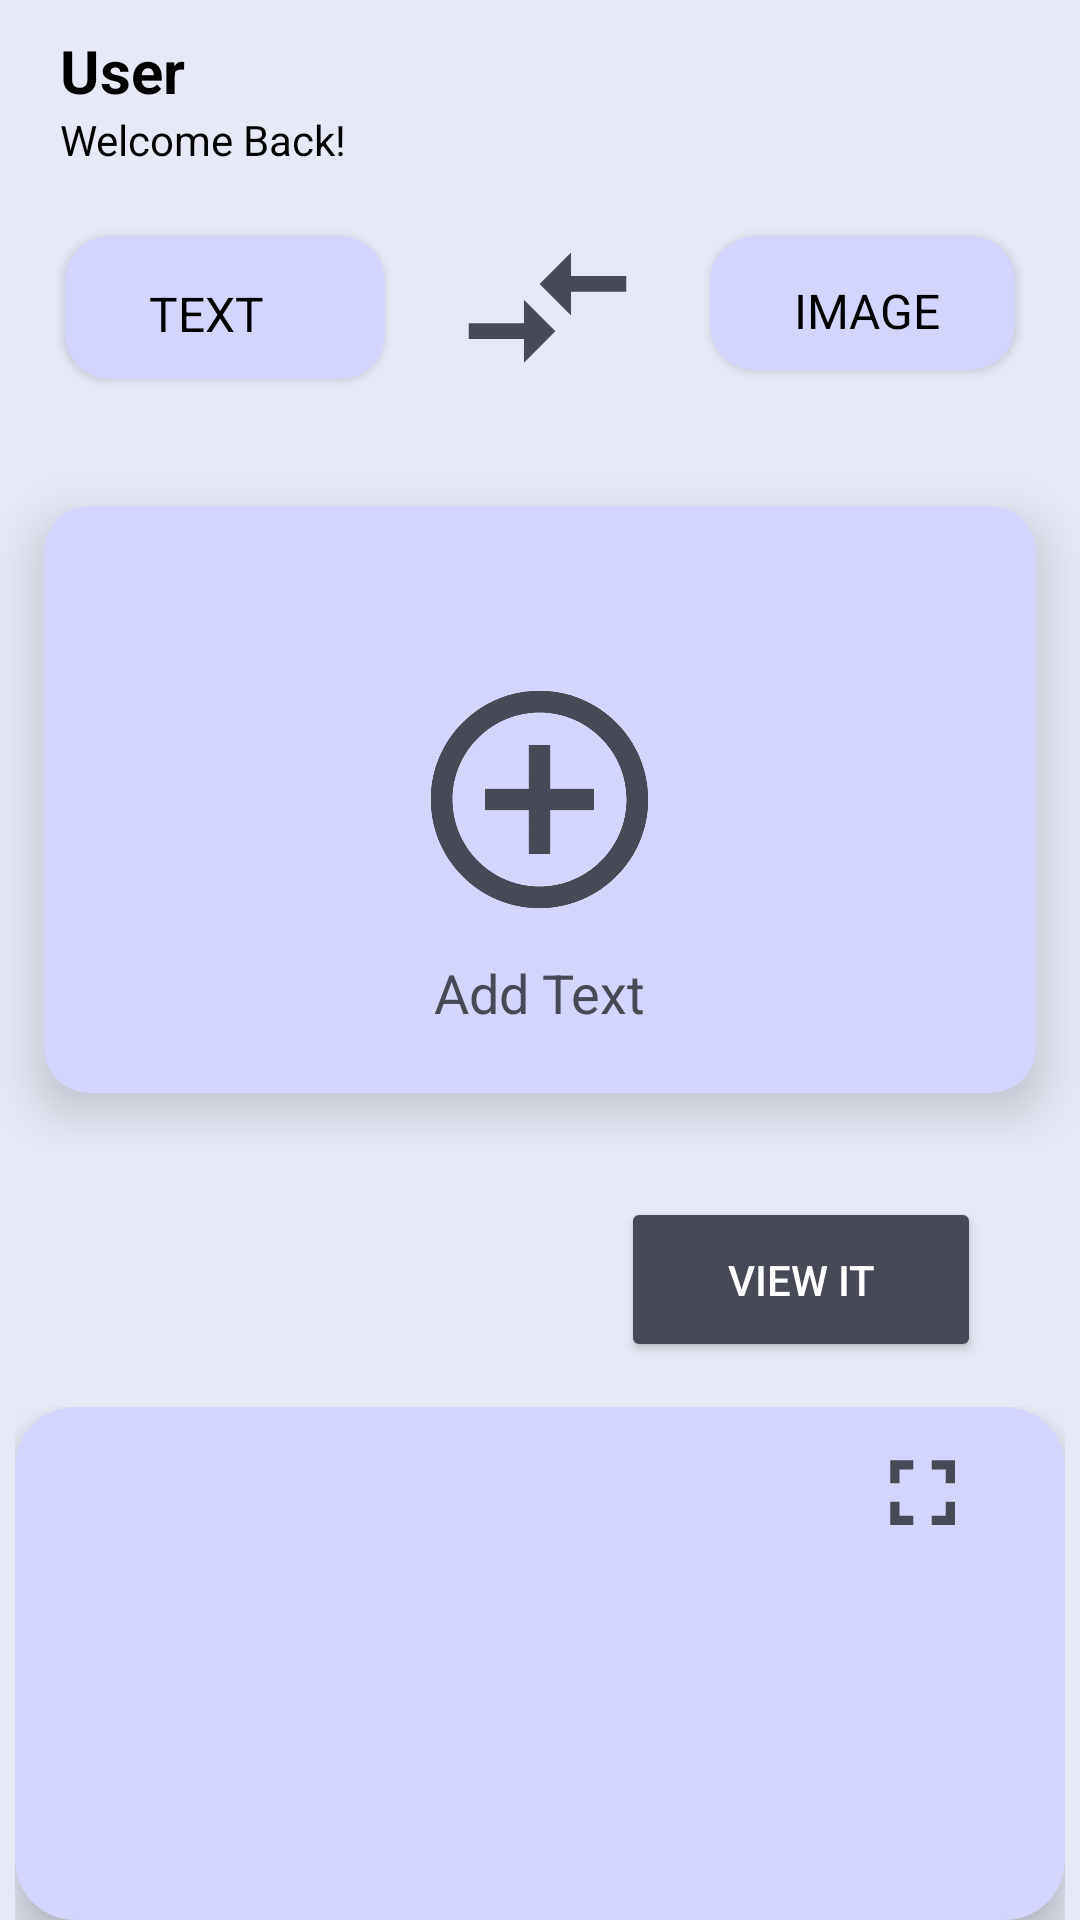

Icons on this 1080px x 1920px Android screen, each with its box as [left=x1, top=y1, right=x2, bottom=y2]:
add circle: [left=431, top=691, right=648, bottom=908]
compare arrows: [left=468, top=253, right=627, bottom=363]
